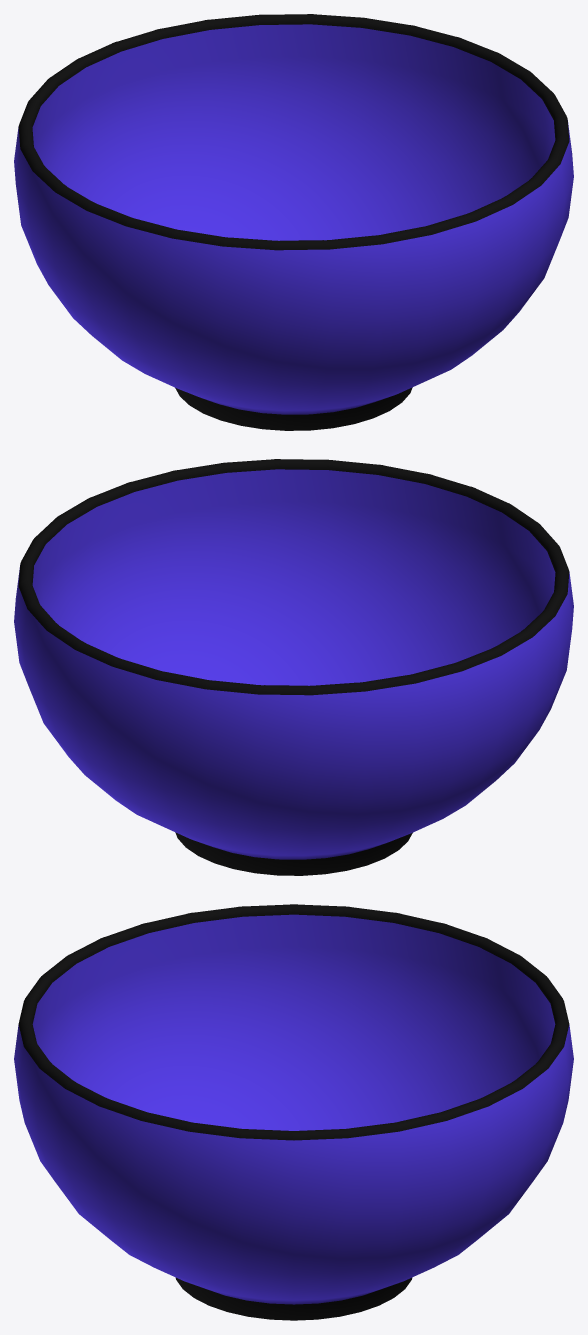
The model's file is Bowl.fbx.
3 views of the same model, one above another, from view 1: azimuth 30°, elevation 25°; view 2: azimuth 150°, elevation 25°; view 3: azimuth 270°, elevation 25° (orthographic).
Parts seen in each view (by area): view 1: Bowl (Blue); view 2: Bowl (Blue); view 3: Bowl (Blue).
Boxes of the visible parts, box(x1,y1,x2,y2) form: Bowl (Blue): box(14, 14, 573, 430); Bowl (Blue): box(14, 459, 573, 875); Bowl (Blue): box(14, 904, 573, 1320).
Bounding box in the file's own units: 0.2148 × 0.1064 × 0.2148.
